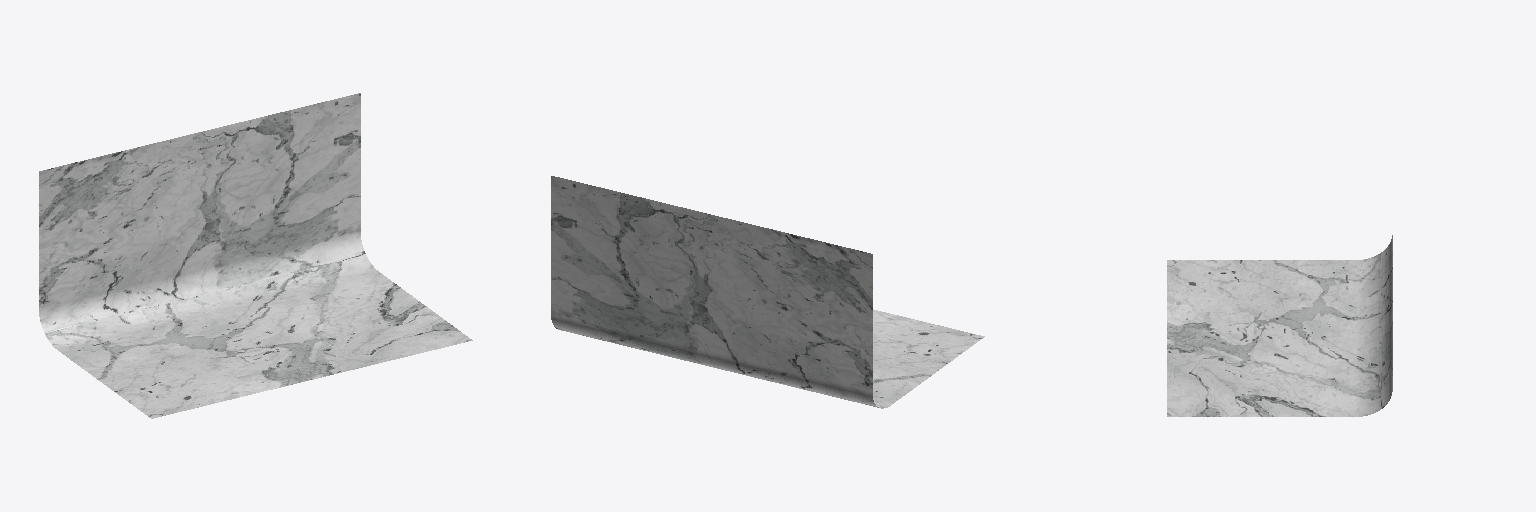
3 views of the same model, side by side, from view 1: azimuth 30°, elevation 25°; view 2: azimuth 150°, elevation 25°; view 3: azimuth 270°, elevation 25° (orthographic).
Visible parts, largest first — view 1: Cube_Cube.009; view 2: Cube_Cube.009; view 3: Cube_Cube.009.
Boxes of the visible parts, <box> form: Cube_Cube.009: <box>39,93,472,418</box>; Cube_Cube.009: <box>551,176,984,408</box>; Cube_Cube.009: <box>1167,235,1392,416</box>.
Bounding box in the file's own units: 13.87 × 6.81 × 8.41.
1 materials, 1 textured.